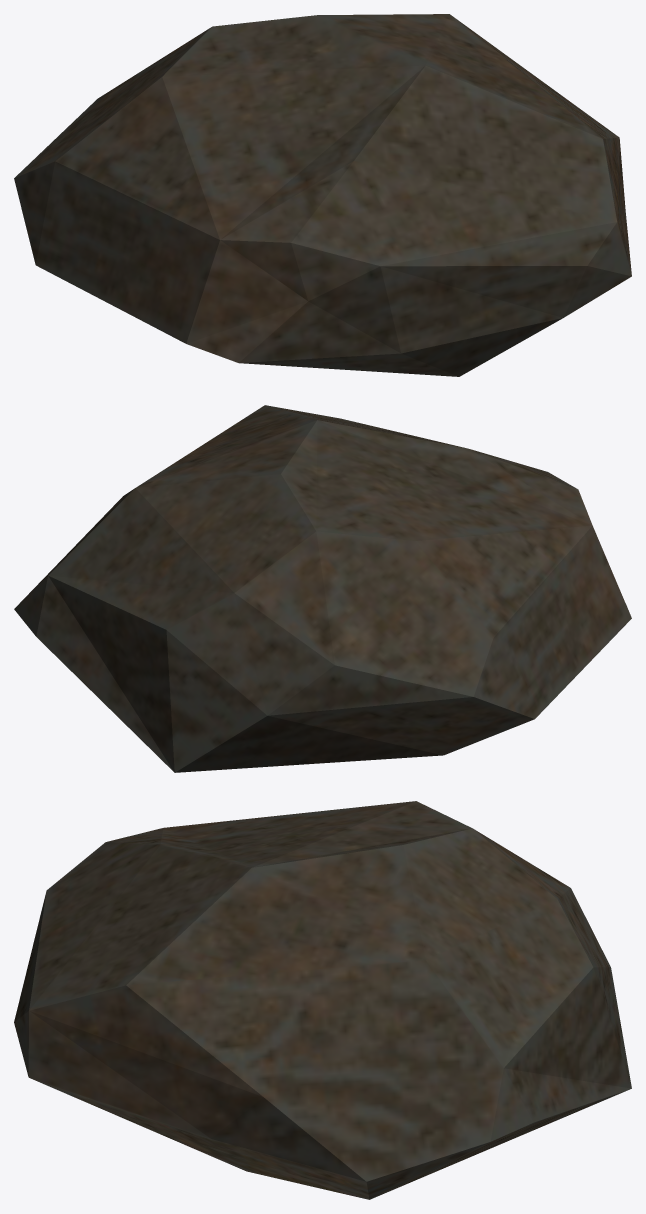
Rendered from piedra_stone_01.glb.
The picture shows the model from 3 angles, top to bottom: view 1: azimuth 30°, elevation 25°; view 2: azimuth 150°, elevation 25°; view 3: azimuth 270°, elevation 25°; orthographic projection. The views are drawn at different scales.
Visible parts, largest first — view 1: Stone_01; view 2: Stone_01; view 3: Stone_01.
Boxes of the visible parts, bbox=[...] form: Stone_01: bbox=[14, 14, 631, 376]; Stone_01: bbox=[14, 405, 631, 772]; Stone_01: bbox=[14, 801, 631, 1199].
Bounding box in the file's own units: 1 × 0.4411 × 0.9484.
Materials: 1 (1 with a texture image).
